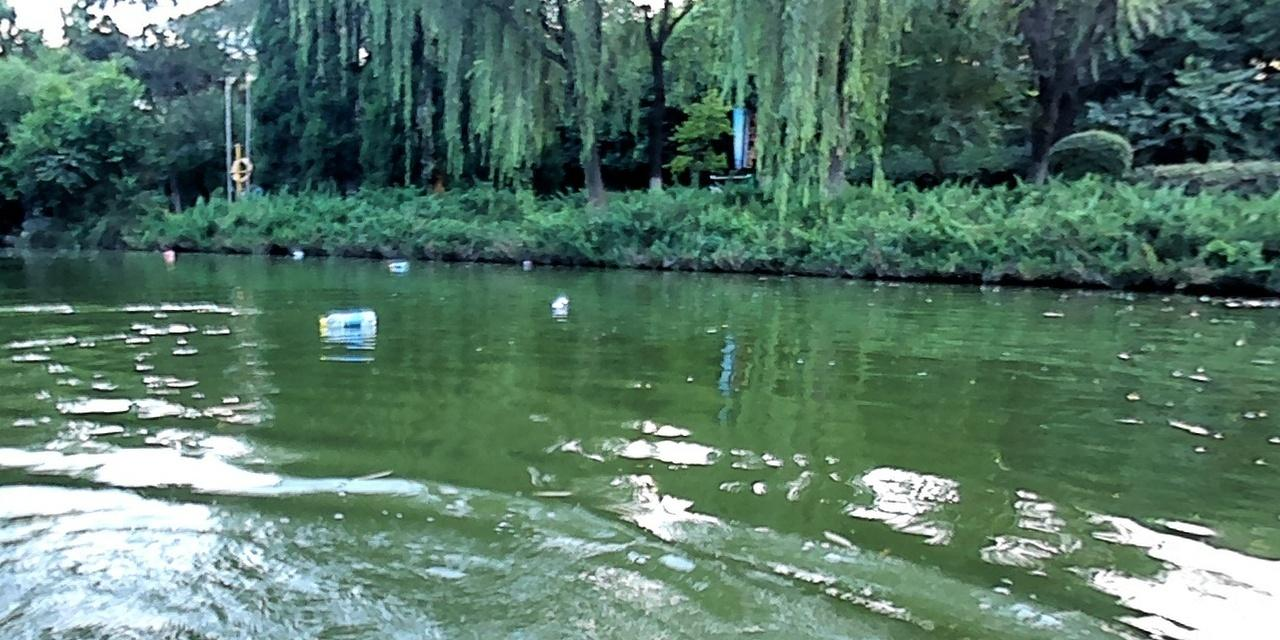bottle: (319, 308, 375, 329), (551, 293, 565, 313), (161, 248, 174, 264), (389, 261, 405, 272), (291, 250, 302, 258), (521, 258, 532, 265)
